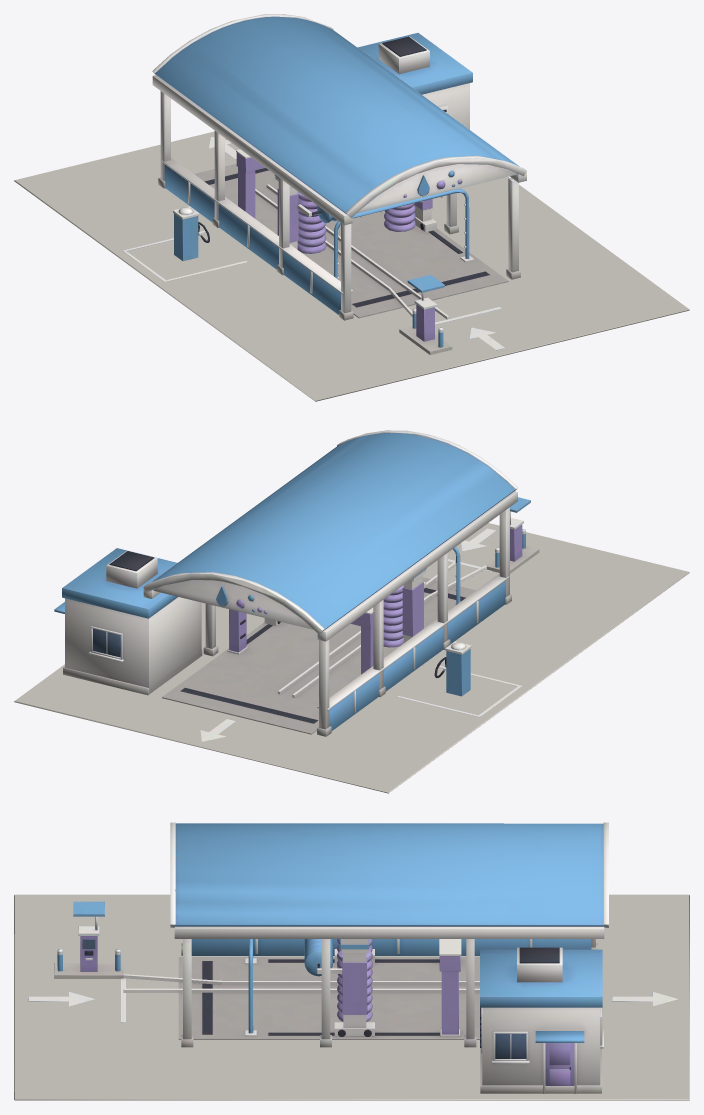
Rendered from car-wash-7b969440.glb.
3 views of the same model, one above another, from view 1: azimuth 30°, elevation 25°; view 2: azimuth 150°, elevation 25°; view 3: azimuth 270°, elevation 25° (orthographic). The views are drawn at different scales.
Parts seen in each view (by area): view 1: car-wash_body, car-wash_ground_slab, car-wash_gantry; view 2: car-wash_body, car-wash_ground_slab, car-wash_gantry; view 3: car-wash_body, car-wash_ground_slab, car-wash_gantry.
Boxes of the visible parts, box(x1,y1,x2,y2) form: car-wash_body: box(122, 14, 526, 354); car-wash_ground_slab: box(14, 131, 689, 401); car-wash_gantry: box(194, 149, 508, 319); car-wash_body: box(54, 430, 539, 741); car-wash_ground_slab: box(14, 523, 689, 793); car-wash_gantry: box(162, 547, 486, 734); car-wash_body: box(28, 822, 677, 1093); car-wash_ground_slab: box(14, 894, 689, 1100); car-wash_gantry: box(123, 939, 479, 1039).
Bounding box in the file's own units: 17.09 × 6.12 × 23.4.
Materials: 3 (2 with a texture image).
